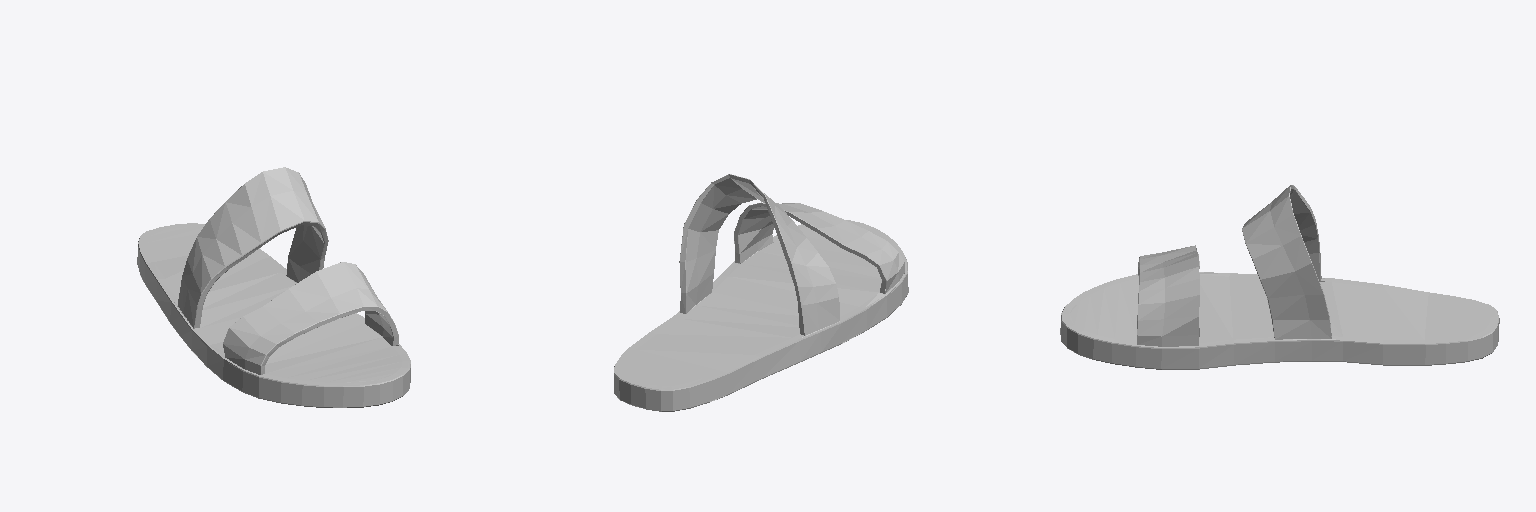
File: shoe_floaters_3.obj
3 renders of one model, left to right at view 1: azimuth 30°, elevation 25°; view 2: azimuth 150°, elevation 25°; view 3: azimuth 270°, elevation 25°, orthographic.
Visible parts, largest first — view 1: Mesh4, Mesh2, Mesh1; view 2: Mesh4, Mesh2, Mesh1; view 3: Mesh4, Mesh2, Mesh1.
Part boxes in pixels (bbox=[...]): Mesh4: bbox=[137, 223, 410, 407]; Mesh2: bbox=[178, 167, 328, 328]; Mesh1: bbox=[223, 262, 398, 374]; Mesh4: bbox=[614, 220, 908, 411]; Mesh2: bbox=[679, 174, 839, 335]; Mesh1: bbox=[734, 202, 904, 293]; Mesh4: bbox=[1060, 272, 1499, 369]; Mesh2: bbox=[1242, 185, 1331, 339]; Mesh1: bbox=[1137, 245, 1199, 346].
Size of the model in its own units: 7.86 by 7.65 by 19.64.